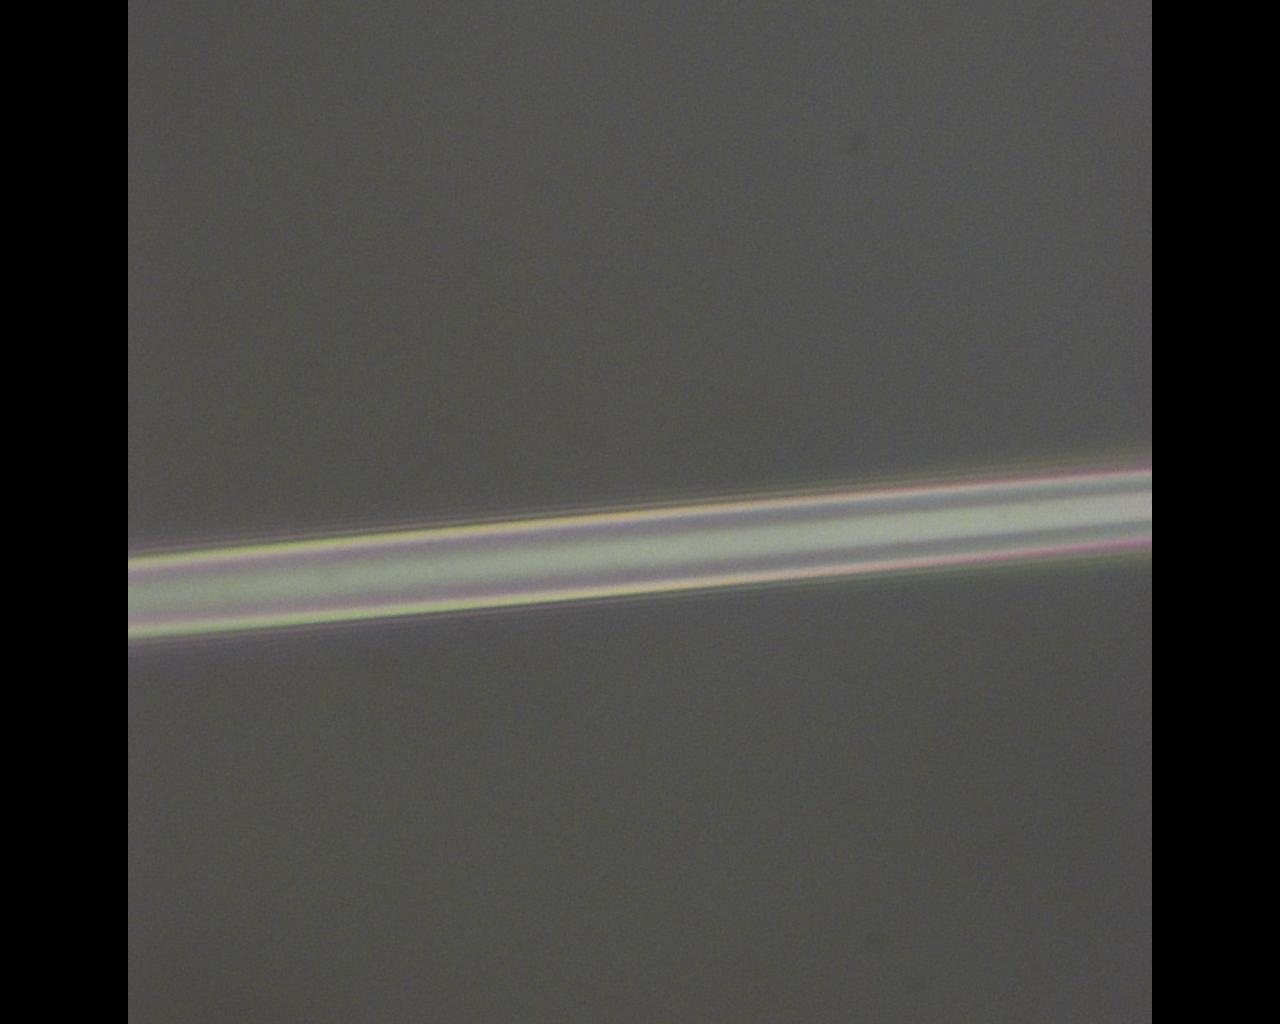fiber: (127, 461, 1151, 642)
